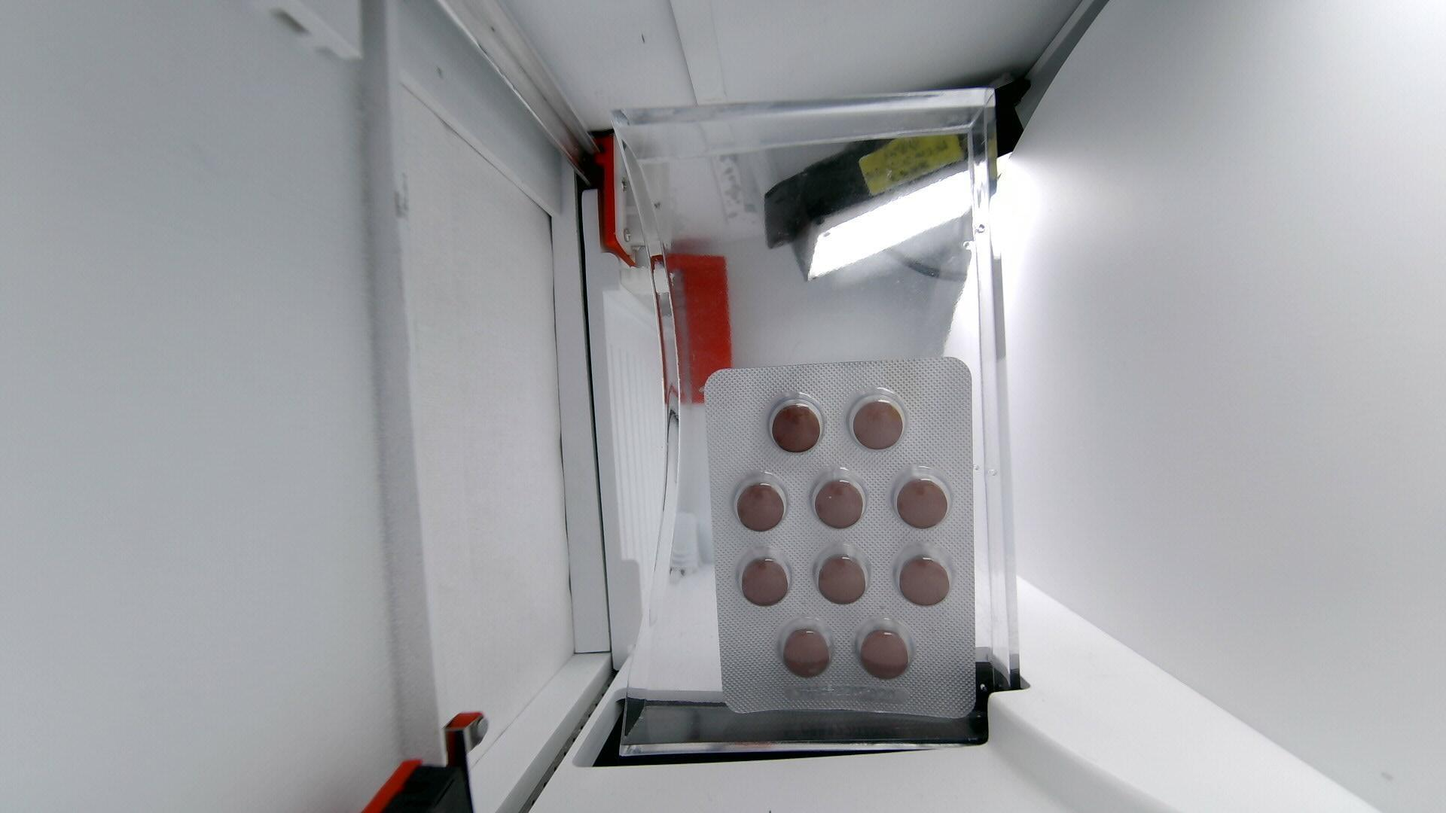Light Front: (706, 358, 977, 720)
Pill Front: (889, 466, 950, 528), (846, 388, 907, 449), (809, 467, 868, 529), (764, 393, 825, 452), (854, 620, 913, 679), (731, 471, 789, 531), (895, 544, 951, 605), (778, 618, 834, 677), (813, 544, 868, 604), (737, 547, 792, 606)
